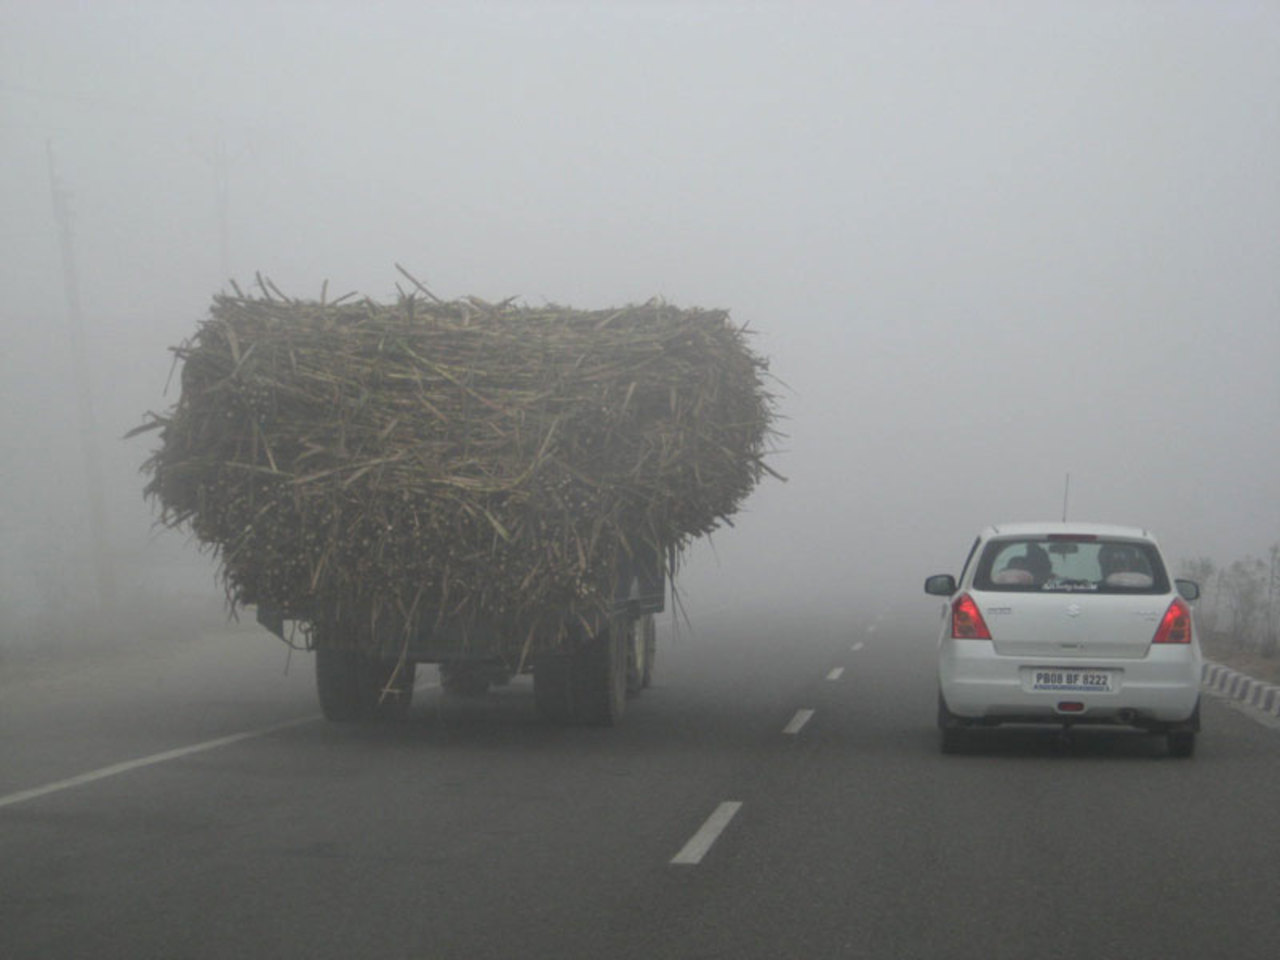car: (930, 523, 1203, 754)
truck: (306, 275, 663, 711)
